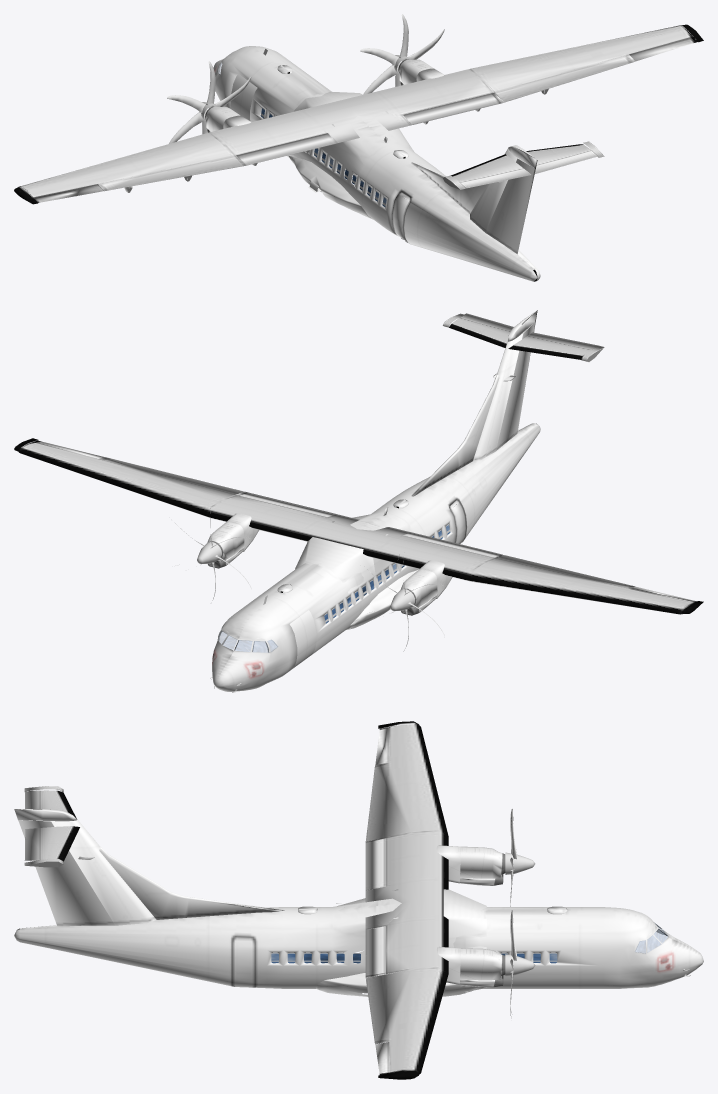
3 renders of one model, top to bottom at view 1: azimuth 30°, elevation 25°; view 2: azimuth 150°, elevation 25°; view 3: azimuth 270°, elevation 25°, orthographic. The views are drawn at different scales.
Parts seen in each view (by area): view 1: NoWindows, fuselage_036, cockpit_inside, Prop2; view 2: fuselage_036, NoWindows, cockpit_inside, fuselage_074; view 3: fuselage_036, NoWindows, cockpit_inside, Windows.
Boxes of the visible parts, x1,y1,x2,y2 form: NoWindows: (14, 24, 703, 205); fuselage_036: (205, 46, 540, 281); cockpit_inside: (167, 49, 502, 191); Prop2: (360, 14, 444, 94); fuselage_036: (207, 310, 540, 691); NoWindows: (14, 313, 703, 622); cockpit_inside: (197, 375, 515, 692); fuselage_074: (218, 631, 277, 652); fuselage_036: (14, 809, 703, 996); NoWindows: (24, 721, 557, 1079); cockpit_inside: (336, 809, 665, 976); Windows: (271, 953, 557, 963).
Size of the model in its own units: 27.69 by 6.59 by 22.77.
5 materials, 4 textured.
